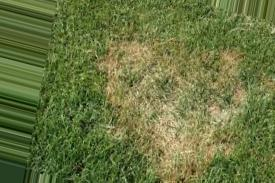patch: (107, 54, 220, 164)
